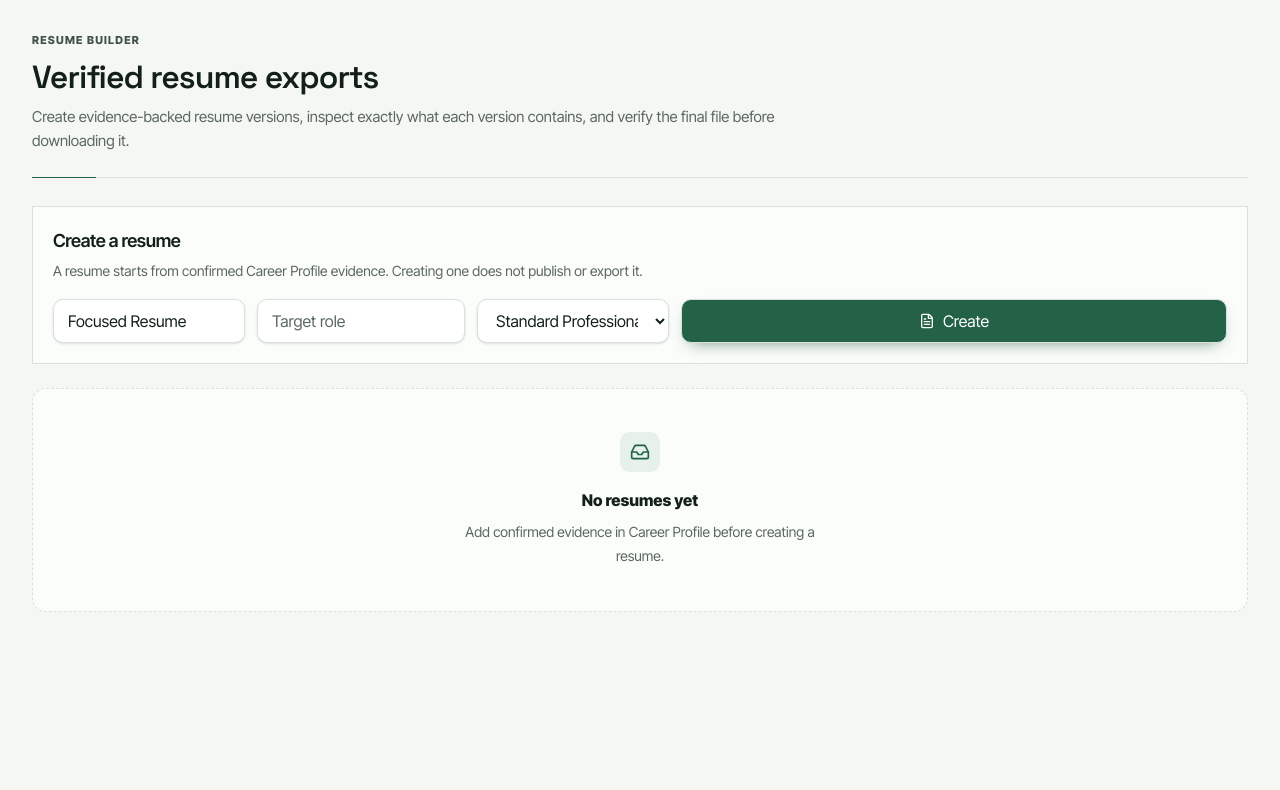
Test: Resume Builder view › renders an empty state and creates a grounded resume
Expected: the heading "No resumes yet" is shown, top-left (582, 490), bottom-right (698, 510)
Replace the text in the field named "Resume title" with "API Resume": (149, 320) top-left (53, 298), bottom-right (245, 342)
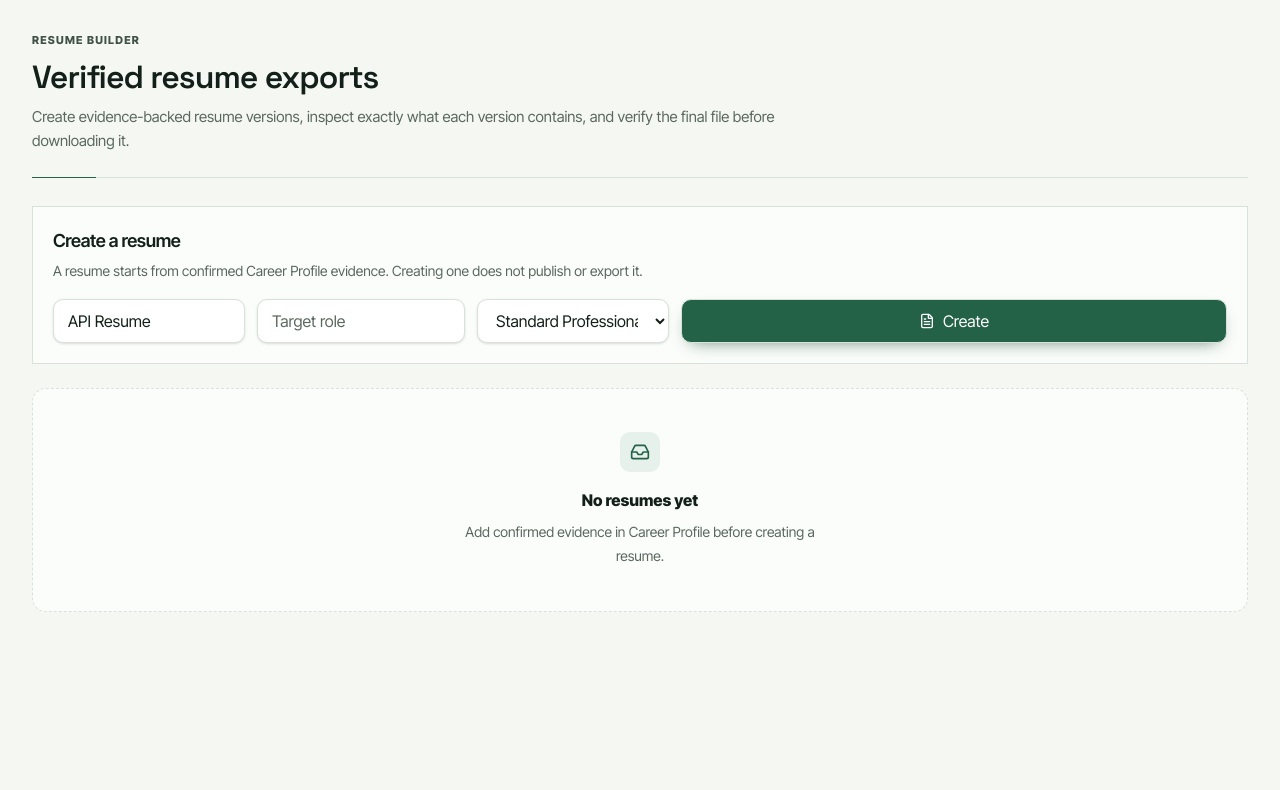
Click the button "Create": (954, 320) top-left (681, 298), bottom-right (1227, 342)
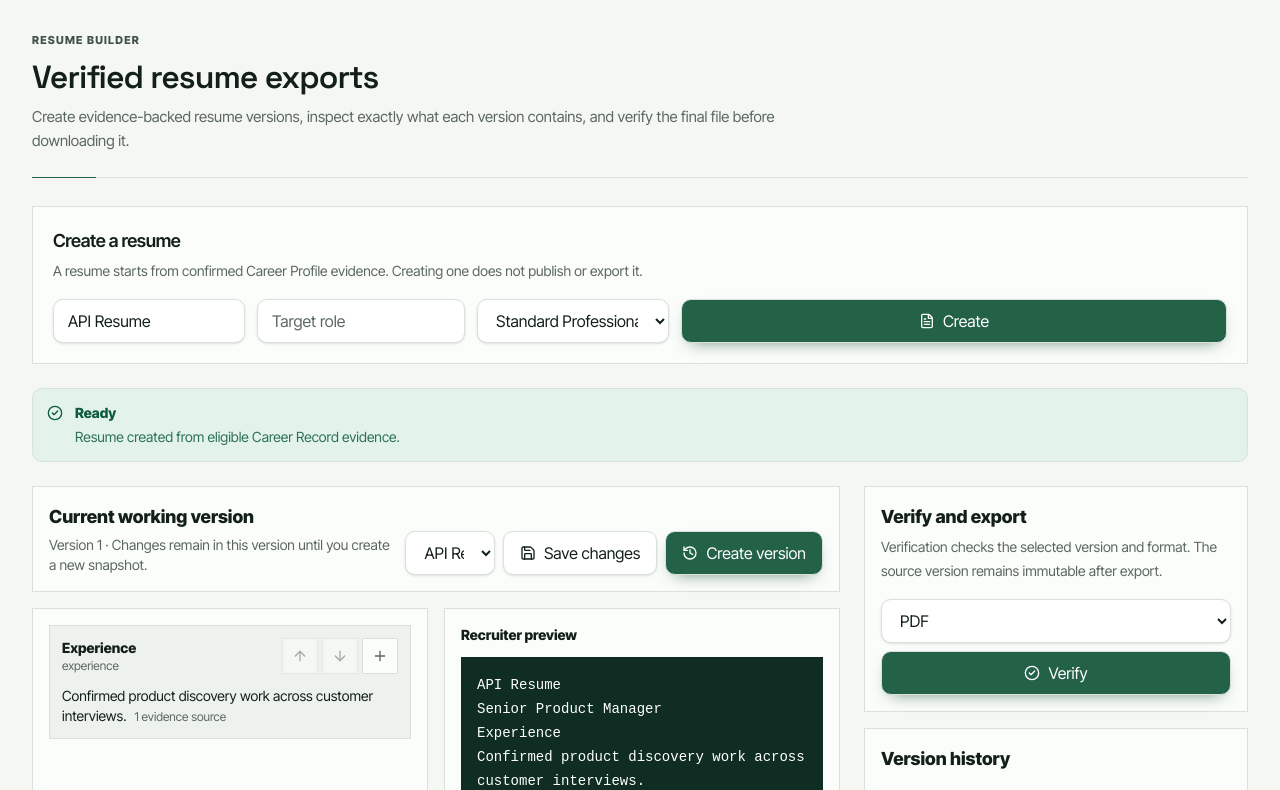
Expected: the list item "Confirmed product discovery work across customer interviews." is shown, top-left (62, 686), bottom-right (373, 724)
